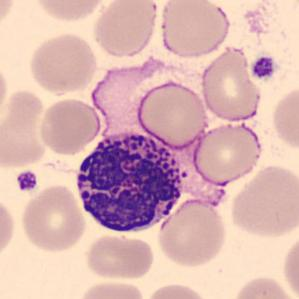Basophil: (72, 124, 191, 239)
Platelets: (249, 54, 278, 81), (14, 169, 38, 194)
RBC: (135, 78, 211, 150), (228, 162, 298, 240), (155, 197, 229, 269), (18, 182, 89, 254), (200, 44, 262, 124), (188, 120, 264, 185), (26, 30, 100, 96), (157, 0, 232, 60), (89, 0, 161, 59), (0, 88, 49, 170), (37, 96, 102, 156), (83, 232, 156, 282), (269, 81, 299, 154), (30, 0, 110, 24), (230, 273, 298, 299), (75, 277, 146, 299), (281, 230, 299, 299), (144, 281, 211, 299), (0, 193, 17, 261), (0, 60, 10, 122), (0, 1, 17, 33)
